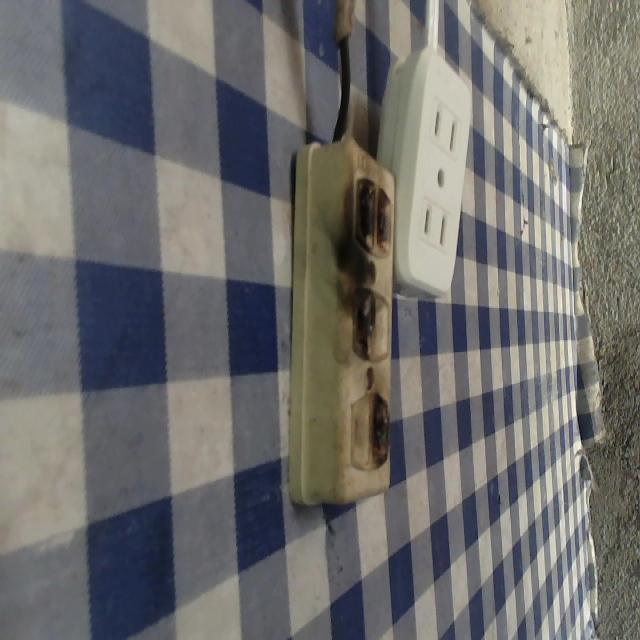-: (344, 164, 400, 269), (342, 279, 379, 372), (361, 390, 396, 466)
